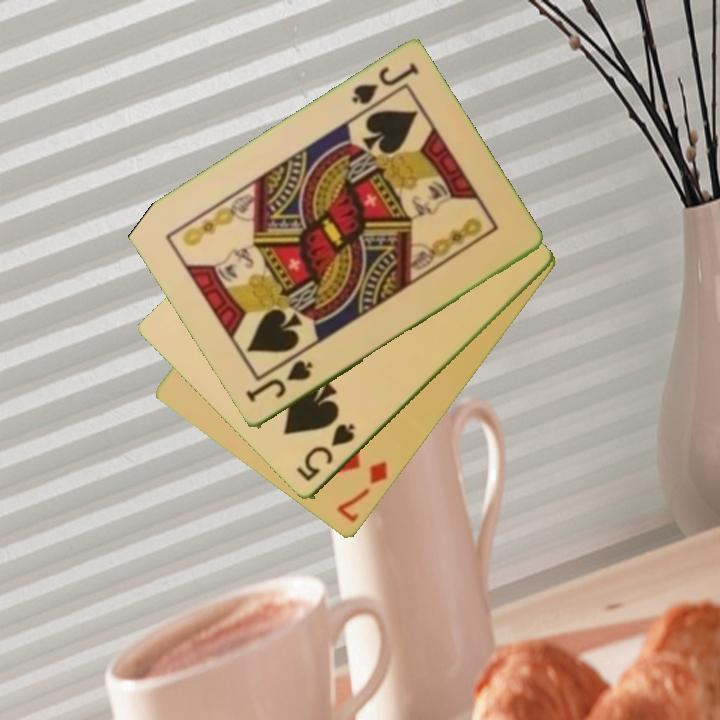5s: (292, 420, 358, 485)
7d: (333, 458, 391, 526)
Js: (348, 60, 422, 109), (243, 357, 316, 406)
